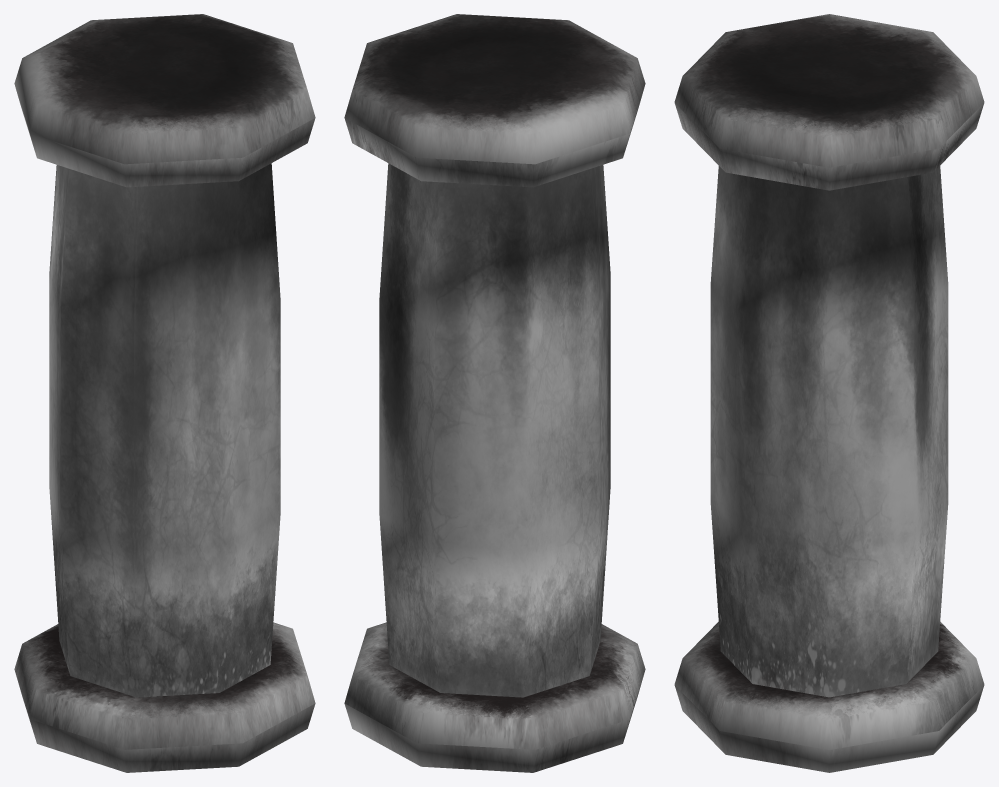
Rendered from MOD_L1_Column1.fbx.
3 renders of one model, left to right at view 1: azimuth 30°, elevation 25°; view 2: azimuth 150°, elevation 25°; view 3: azimuth 270°, elevation 25°, orthographic.
Parts seen in each view (by area): view 1: Cylinder; view 2: Cylinder; view 3: Cylinder.
Part boxes in pixels (box(x1,y1,x2,y2)): Cylinder: box(14, 14, 315, 772); Cylinder: box(344, 14, 645, 772); Cylinder: box(674, 14, 984, 772).
Size of the model in its own units: 8.67 by 20.01 by 8.67.
1 material, 1 textured.
